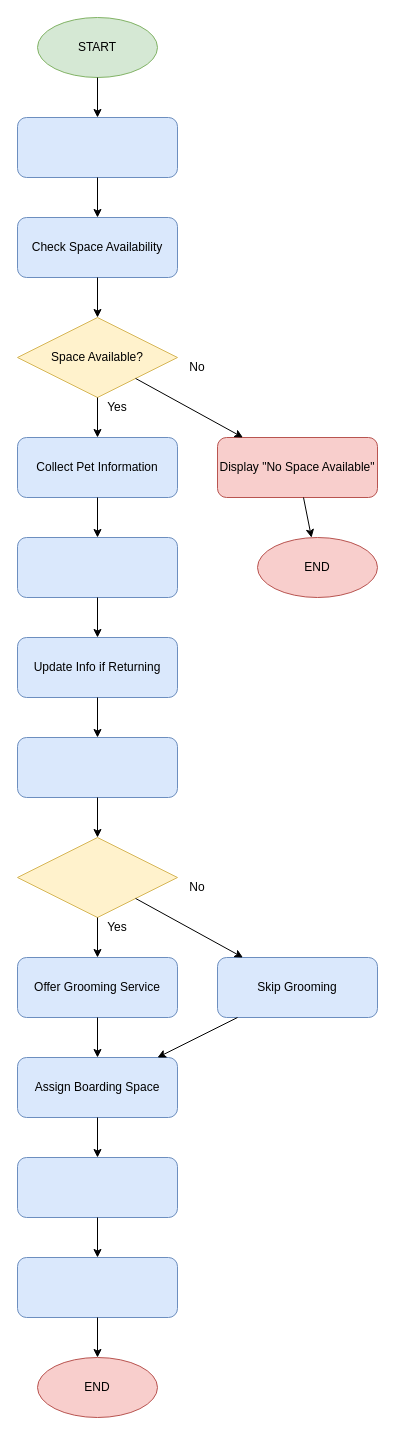
The diagram is 395 pixels wide and 1435 high, and some of its shapes have lost their labels. The shapes that lost their labels are listed below. From the top down, each one's box as (x1, y1, x2, y2) in pixels, then its label:
(16, 116, 178, 178): Prompt for Pet Type (Dog/Cat)
(16, 536, 178, 598): Check if Returning Pet
(16, 736, 178, 798): Check Grooming Eligibility
(16, 836, 178, 918): Dog AND Stay ≥ 2 days?
(16, 1156, 178, 1218): Calculate Fees
(16, 1256, 178, 1318): Display Confirmation
